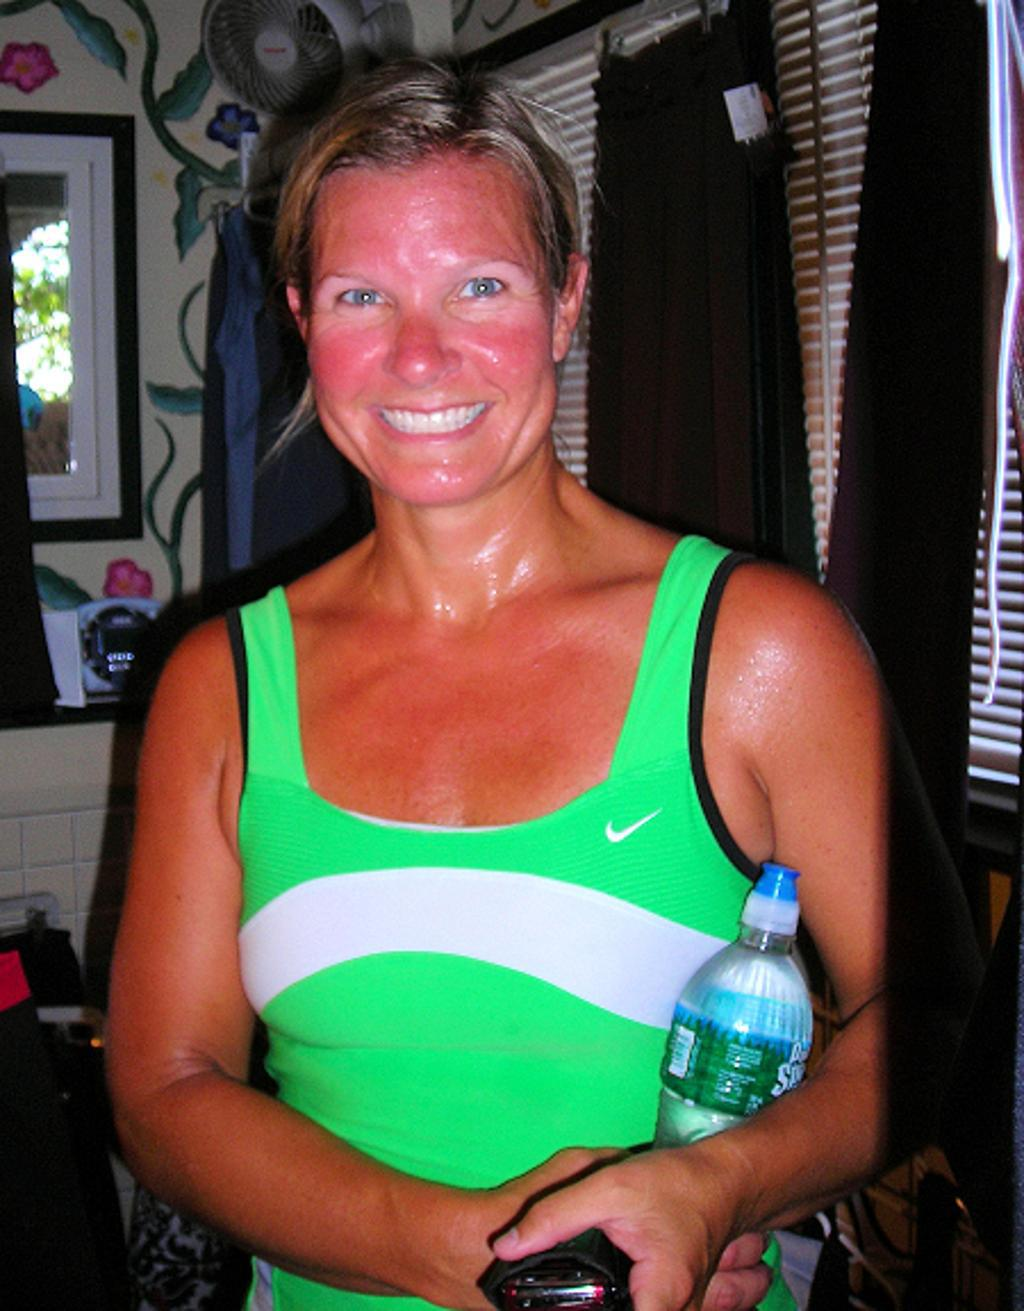face: (311, 167, 559, 505)
